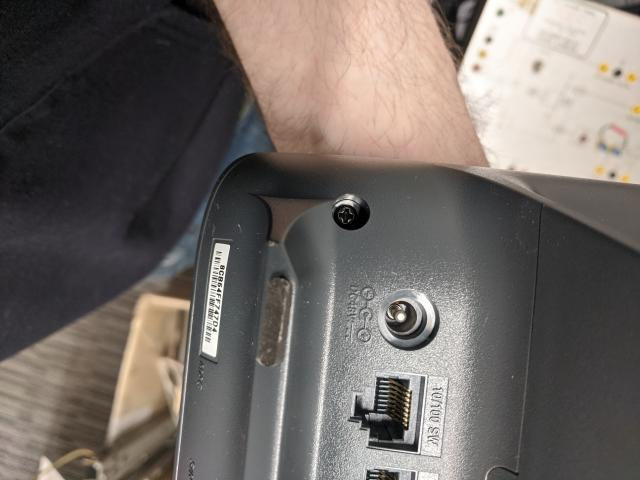CRS: (335, 202, 359, 230)
